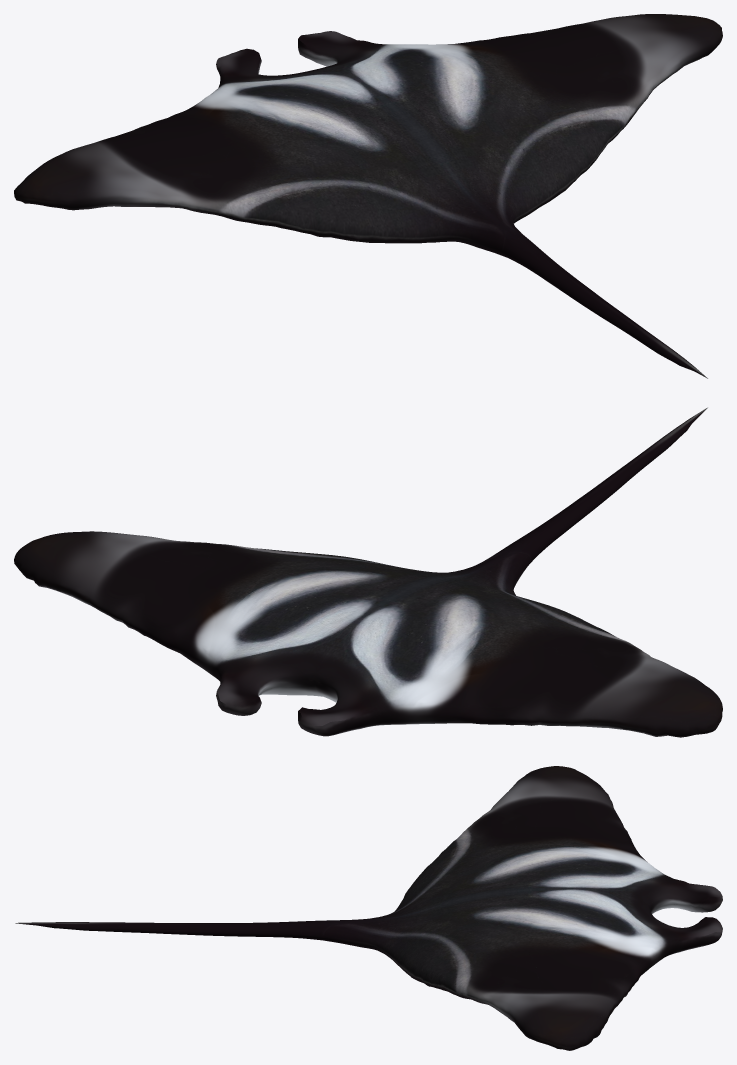
Rendered from manta_ray.glb.
3 renders of one model, top to bottom at view 1: azimuth 30°, elevation 25°; view 2: azimuth 150°, elevation 25°; view 3: azimuth 270°, elevation 25°, orthographic. The views are drawn at different scales.
Visible parts, largest first — view 1: Object_2; view 2: Object_2; view 3: Object_2.
Boxes of the visible parts, left/top/right/bottom form: Object_2: left=14, top=14, right=722, bottom=378; Object_2: left=14, top=407, right=722, bottom=737; Object_2: left=15, top=766, right=722, bottom=1050.
Bounding box in the file's own units: 4.19 × 0.4232 × 4.54.
Materials: 1 (1 with a texture image).
